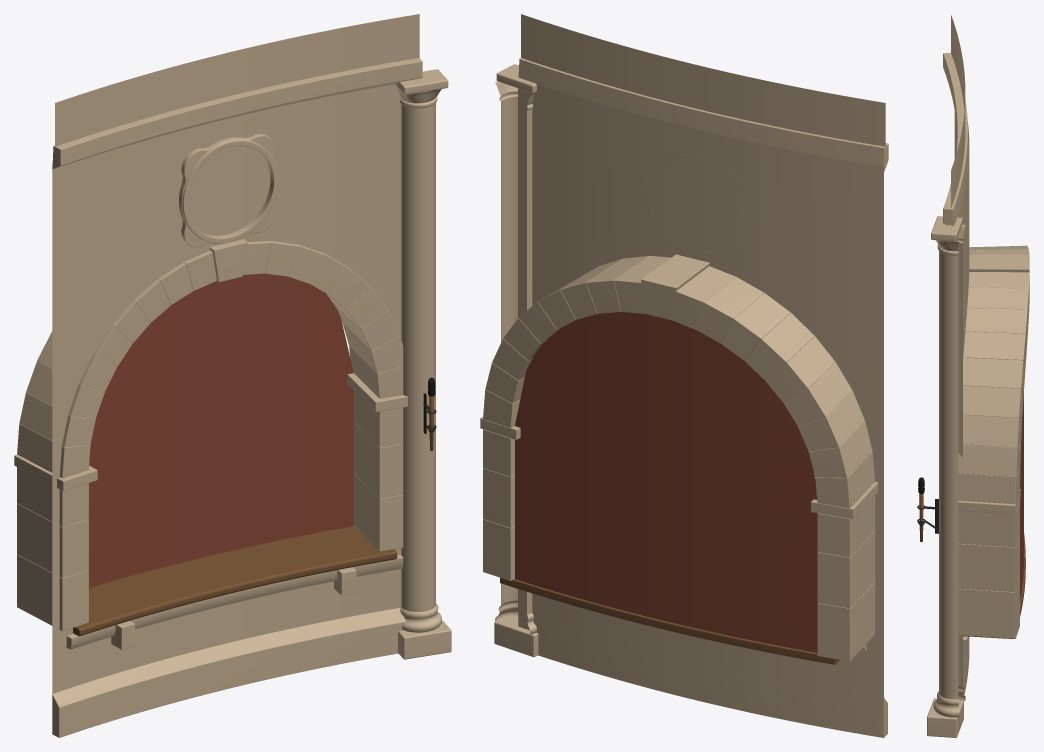
The model's file is bay.glb.
The picture shows the model from 3 angles, left to right: view 1: azimuth 30°, elevation 25°; view 2: azimuth 150°, elevation 25°; view 3: azimuth 270°, elevation 25°; orthographic projection. The views are drawn at different scales.
Parts seen in each view (by area): view 1: bay; view 2: bay; view 3: bay.
Part boxes in pixels (x1=…): bay: x1=14, y1=14, x2=451, y2=737; bay: x1=480, y1=14, x2=888, y2=737; bay: x1=917, y1=15, x2=1029, y2=737.
Size of the model in its own units: 4.03 by 6.21 by 1.14.
